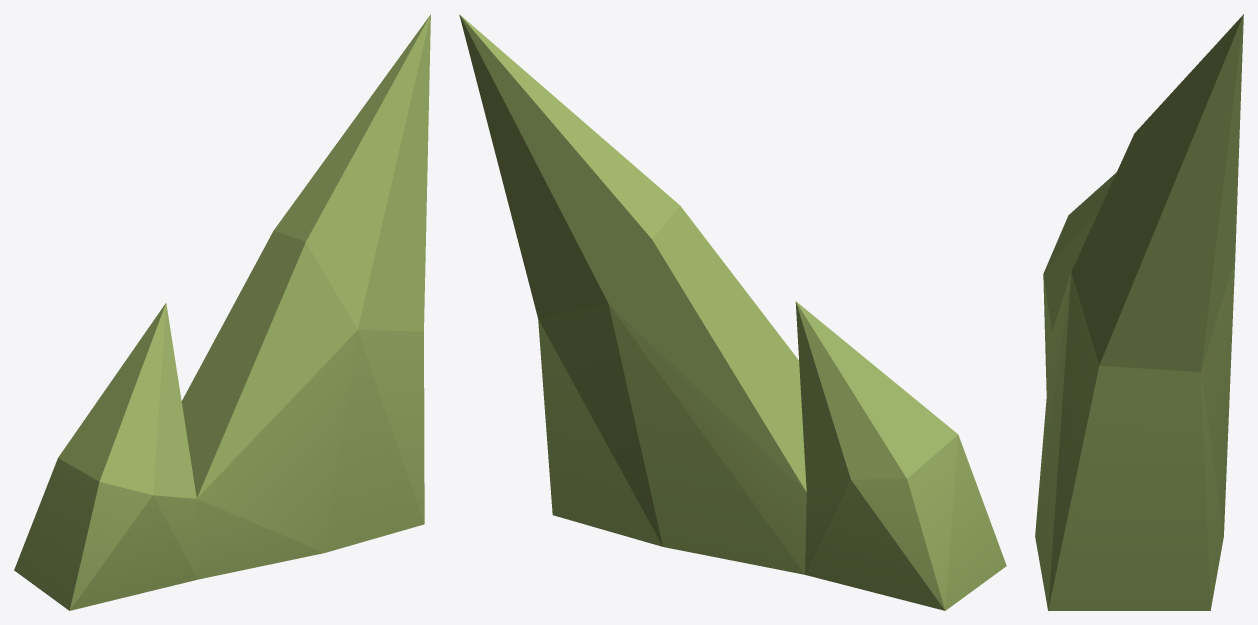
The model's file is GrassPiece2_0.glb.
The picture shows the model from 3 angles, left to right: view 1: azimuth 30°, elevation 25°; view 2: azimuth 150°, elevation 25°; view 3: azimuth 270°, elevation 25°; orthographic projection. The views are drawn at different scales.
Parts seen in each view (by area): view 1: GrassPiece2; view 2: GrassPiece2; view 3: GrassPiece2.
Boxes of the visible parts, box(x1,y1,x2,y2) form: GrassPiece2: box(14, 14, 430, 610); GrassPiece2: box(459, 14, 1006, 610); GrassPiece2: box(1035, 14, 1243, 610).
Bounding box in the file's own units: 0.6029 × 0.5966 × 0.1739.
